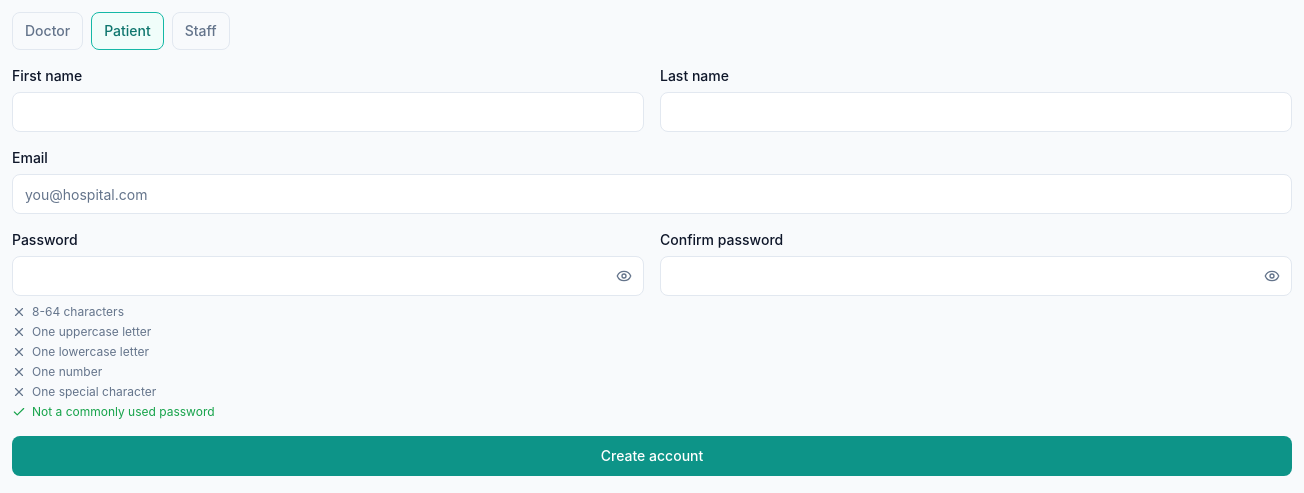
Test: ManualSignupForm › shows a mismatch error when password and confirm password differ
The width and height of the screenshot is (1304, 493).
In the field labelled "First name": (328, 112) left=12, top=92, right=644, bottom=132, type "Ada"
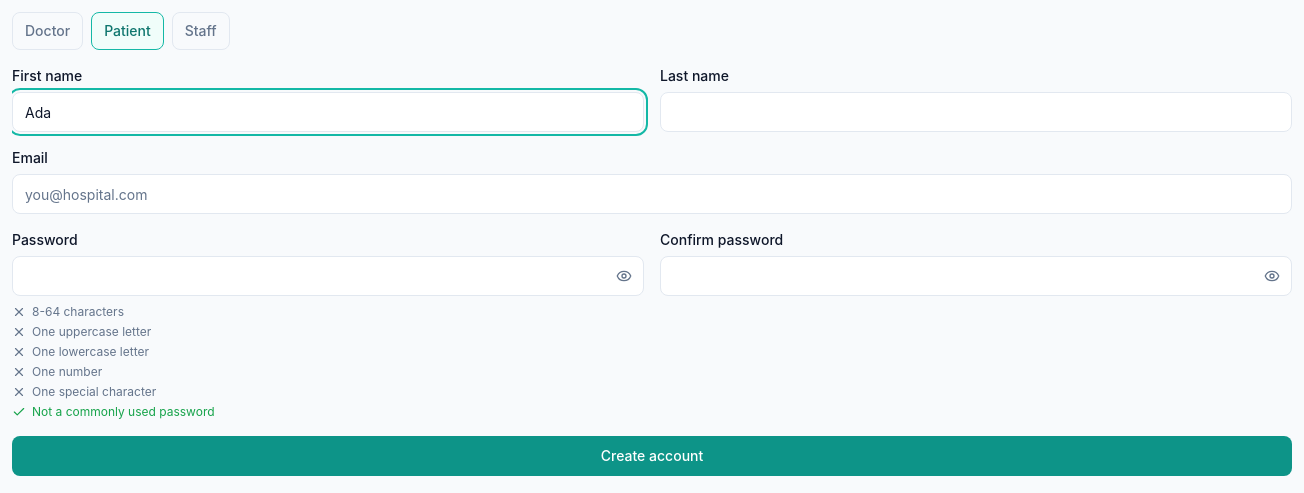
In the field labelled "Last name": (976, 112) left=660, top=92, right=1292, bottom=132, type "Lovelace"
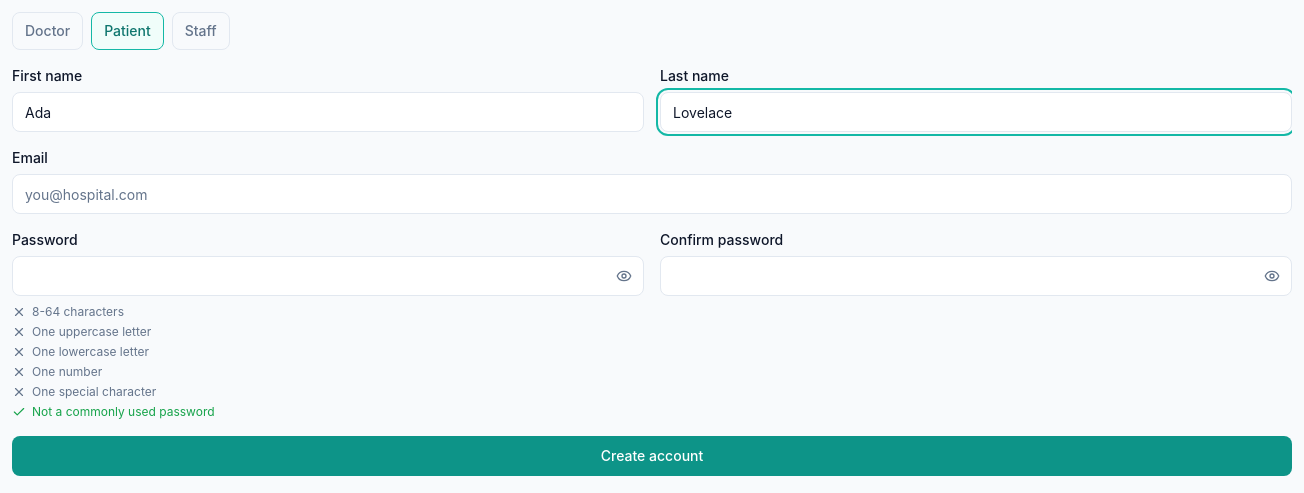
In the field labelled "Email": (652, 194) left=12, top=174, right=1292, bottom=214, type "ada@example.test"
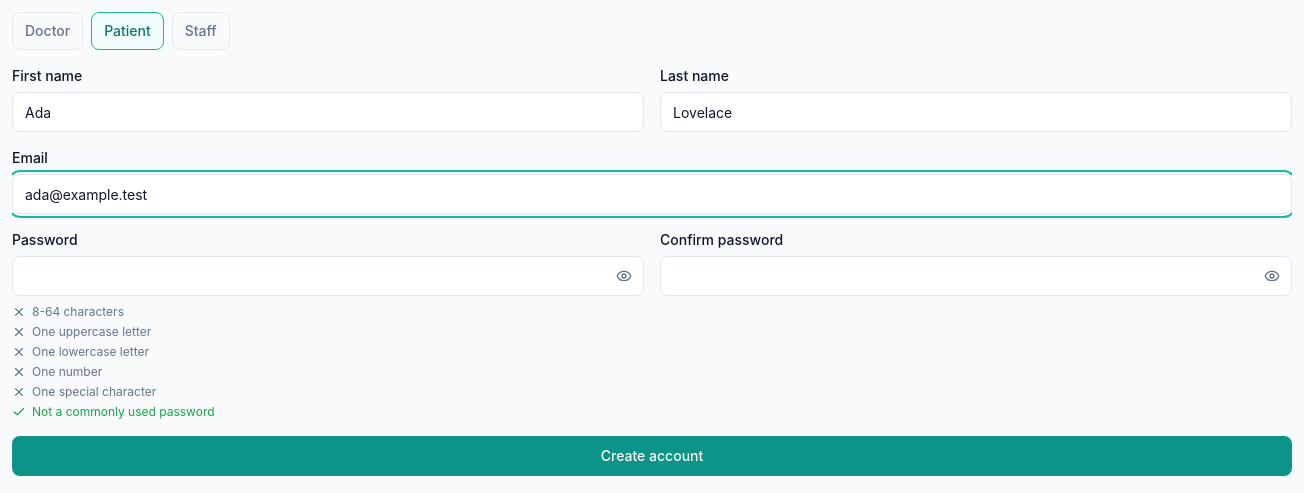
In the password field labelled "Password": (328, 276) left=12, top=256, right=644, bottom=296, type "Longenough1!"
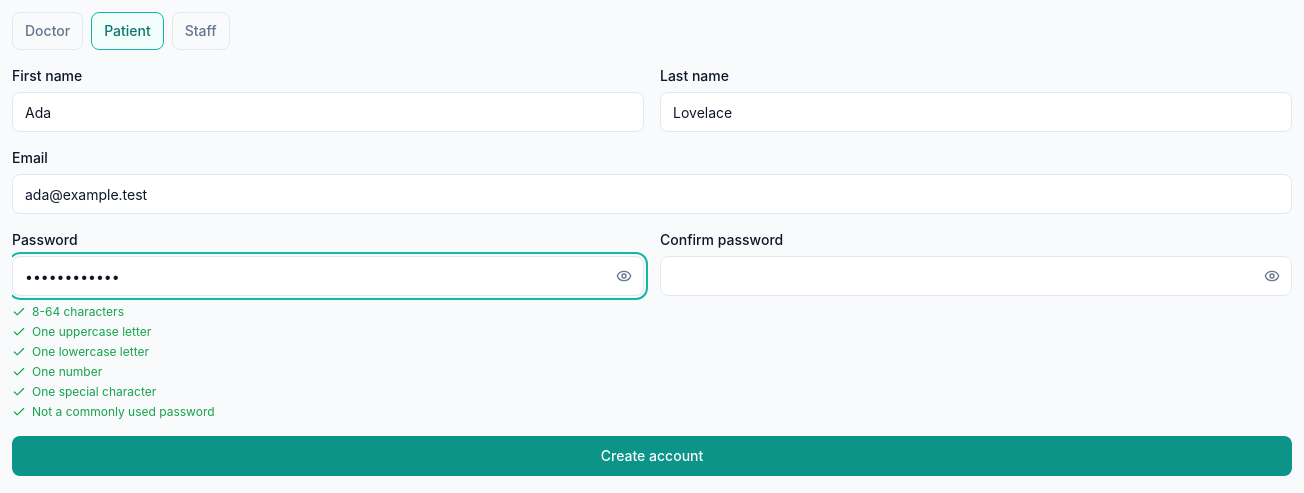
In the password field labelled "Confirm password": (976, 276) left=660, top=256, right=1292, bottom=296, type "Different1!"
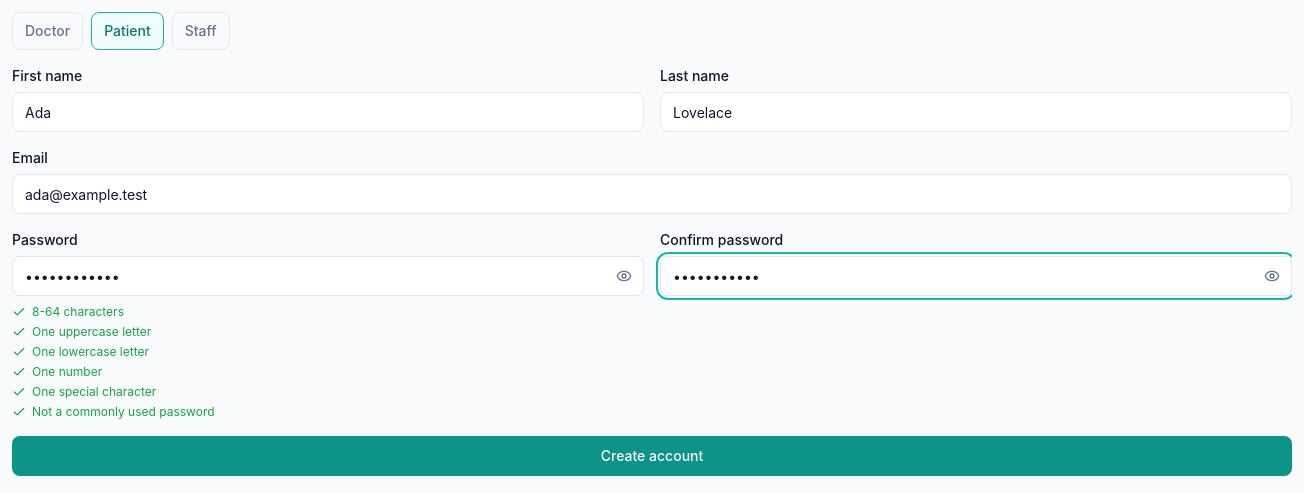
Click the button "Create account": (652, 456) left=12, top=436, right=1292, bottom=476
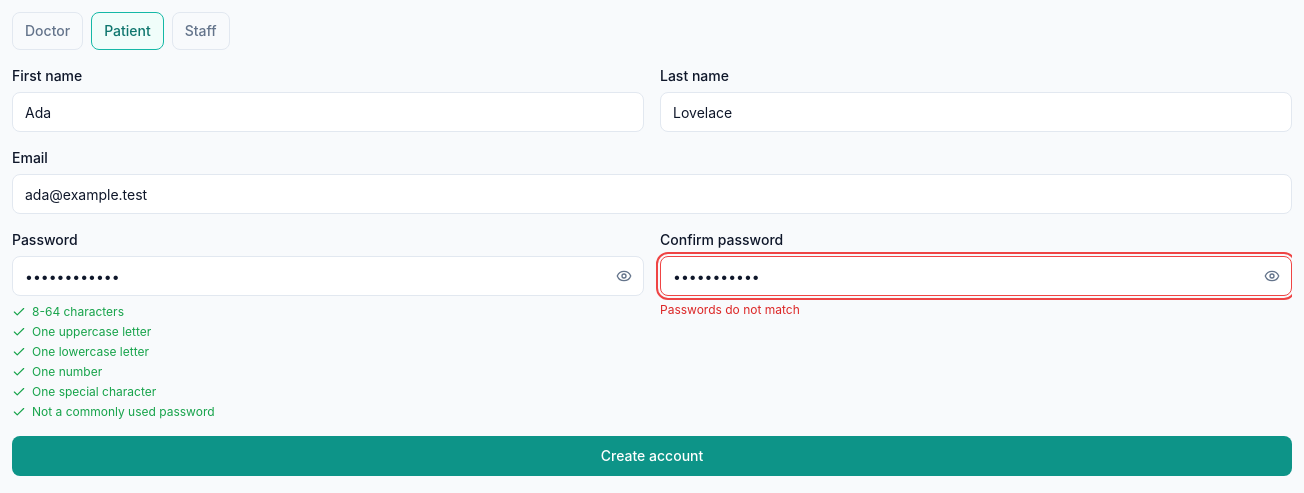
Expected: the text "Passwords do not match" is shown, left=660, top=302, right=800, bottom=317
